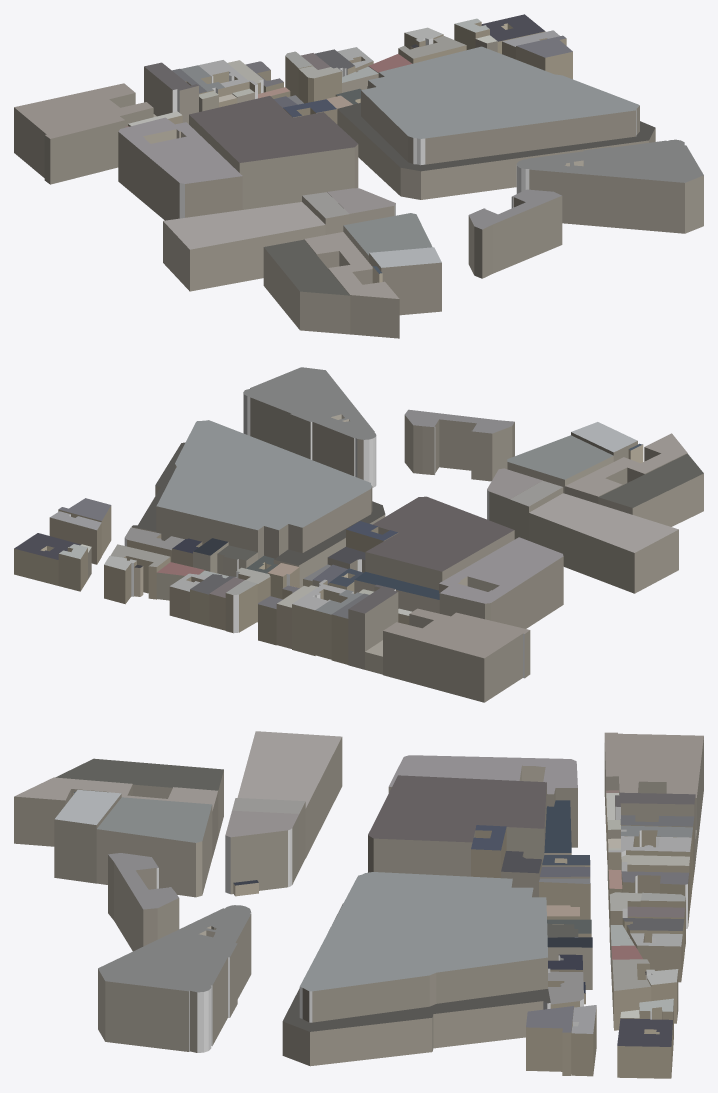
3 renders of one model, top to bottom at view 1: azimuth 30°, elevation 25°; view 2: azimuth 150°, elevation 25°; view 3: azimuth 270°, elevation 25°, orthographic. The views are drawn at different scales.
Parts seen in each view (by area): view 1: tuile; view 2: tuile; view 3: tuile.
Part boxes in pixels (x1=…): tuile: x1=14, y1=14, x2=703, y2=338; tuile: x1=14, y1=367, x2=703, y2=702; tuile: x1=14, y1=731, x2=703, y2=1078.
Bounding box in the file's own units: 284 × 32.32 × 280.
